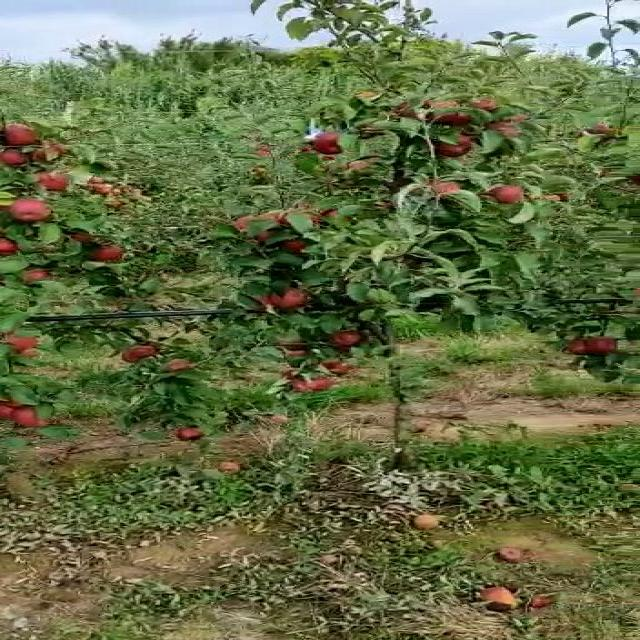100-_ripeness: (9, 201, 53, 225), (576, 338, 614, 361), (2, 124, 36, 148), (15, 403, 49, 427), (96, 239, 131, 262), (271, 290, 309, 311), (309, 133, 342, 156), (294, 373, 331, 390), (431, 140, 467, 157), (498, 184, 527, 204), (2, 146, 34, 164), (40, 172, 67, 192), (331, 334, 360, 346), (126, 350, 146, 361)
